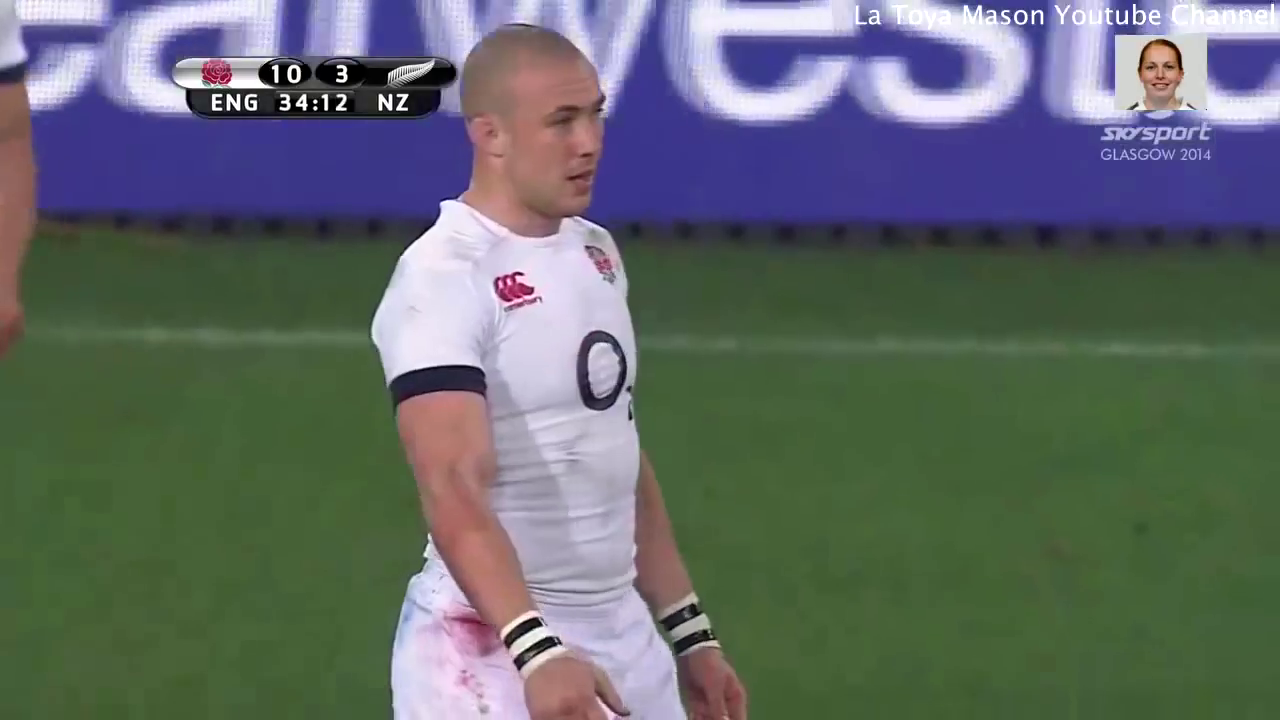player: (376, 14, 751, 720)
